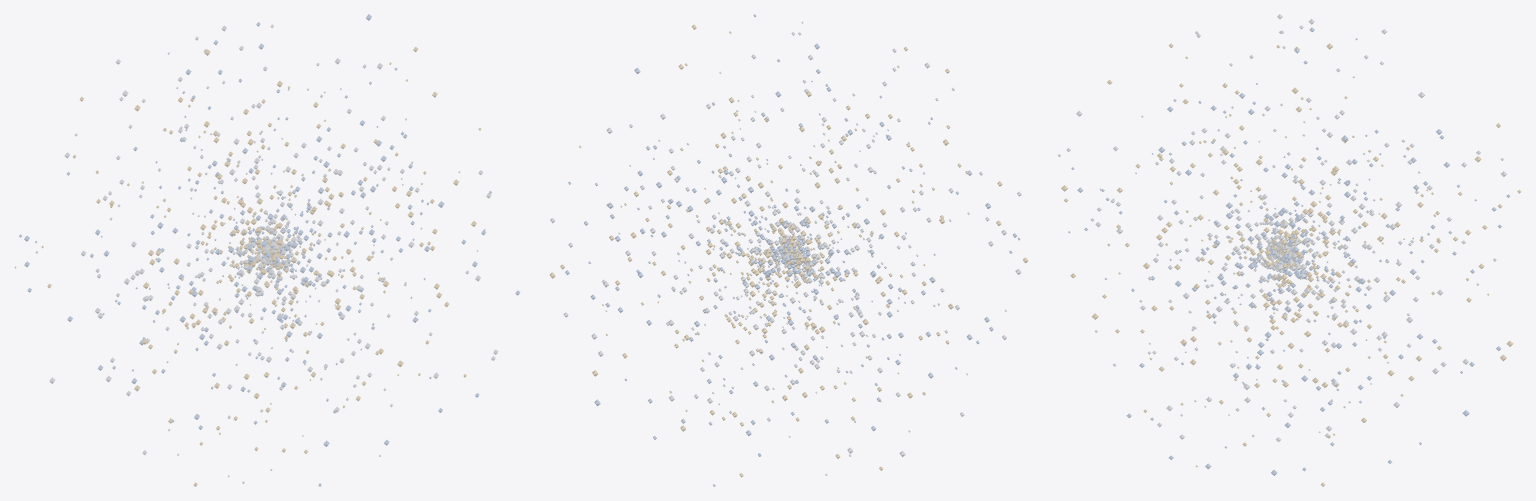
The picture shows the model from 3 angles, left to right: view 1: azimuth 30°, elevation 25°; view 2: azimuth 150°, elevation 25°; view 3: azimuth 270°, elevation 25°; orthographic projection. The views are drawn at different scales.
Size of the model in its own units: 4.89 by 5.03 by 4.79.
